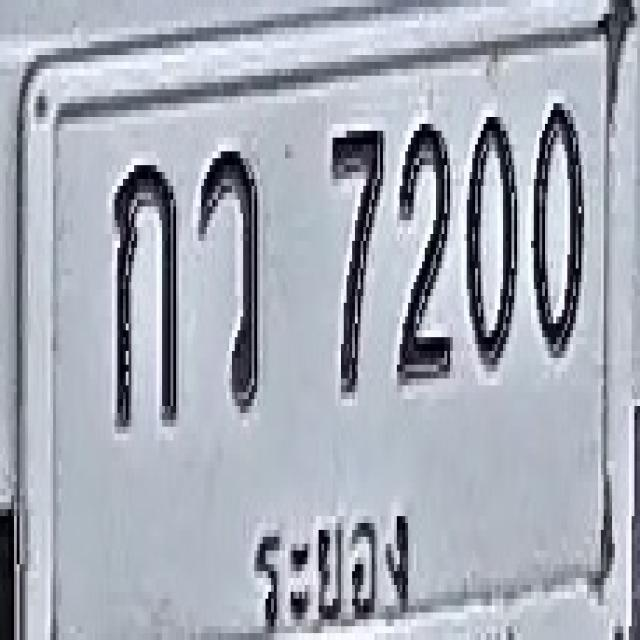0: (531, 96, 584, 358), (465, 110, 516, 365)
2: (396, 120, 452, 382)
7: (330, 124, 383, 392)
A01: (112, 158, 179, 427)
A37: (197, 144, 259, 413)
RYG: (247, 482, 416, 640)
